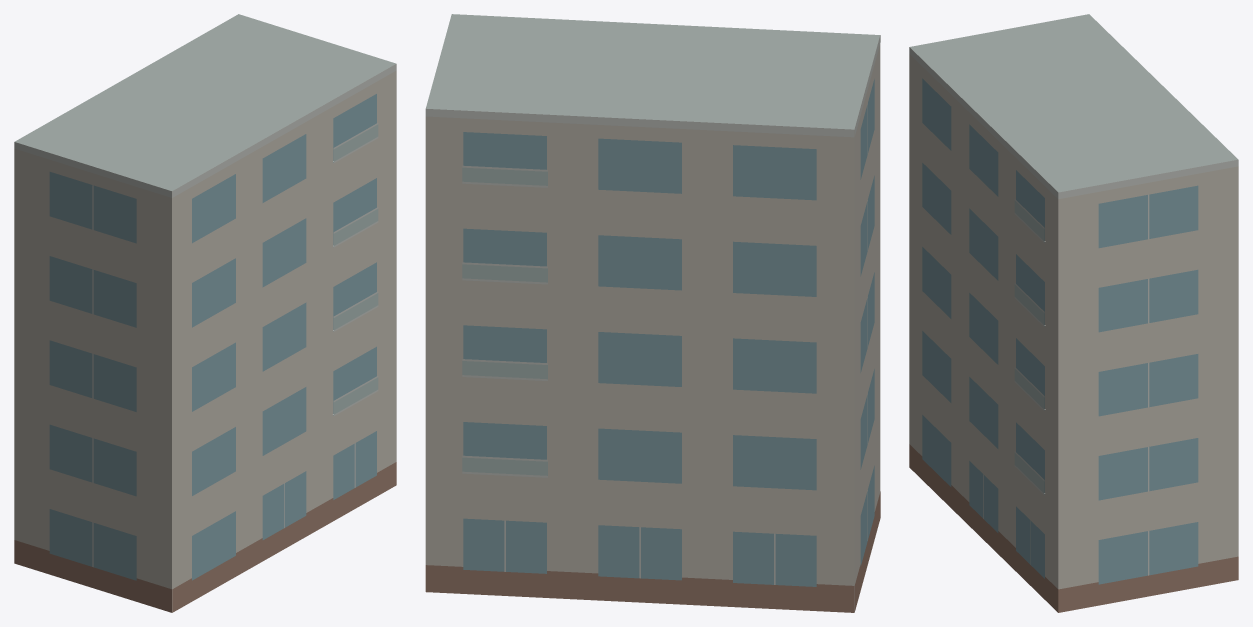
The model's file is residential-89445b2d-261c-4f37-97b1-5edfe6c24232.glb.
3 views of the same model, side by side, from view 1: azimuth 30°, elevation 25°; view 2: azimuth 150°, elevation 25°; view 3: azimuth 270°, elevation 25° (orthographic). The views are drawn at different scales.
Visible parts, largest first — view 1: residential-89445b2d-261c-4f37-97b1-5edfe6c24232.tmp; view 2: residential-89445b2d-261c-4f37-97b1-5edfe6c24232.tmp; view 3: residential-89445b2d-261c-4f37-97b1-5edfe6c24232.tmp.
Boxes of the visible parts, <box> form: residential-89445b2d-261c-4f37-97b1-5edfe6c24232.tmp: <box>14,14,396,612</box>; residential-89445b2d-261c-4f37-97b1-5edfe6c24232.tmp: <box>425,14,880,612</box>; residential-89445b2d-261c-4f37-97b1-5edfe6c24232.tmp: <box>909,14,1238,612</box>.
Bounding box in the file's own units: 13.9 × 15.25 × 10.83.
